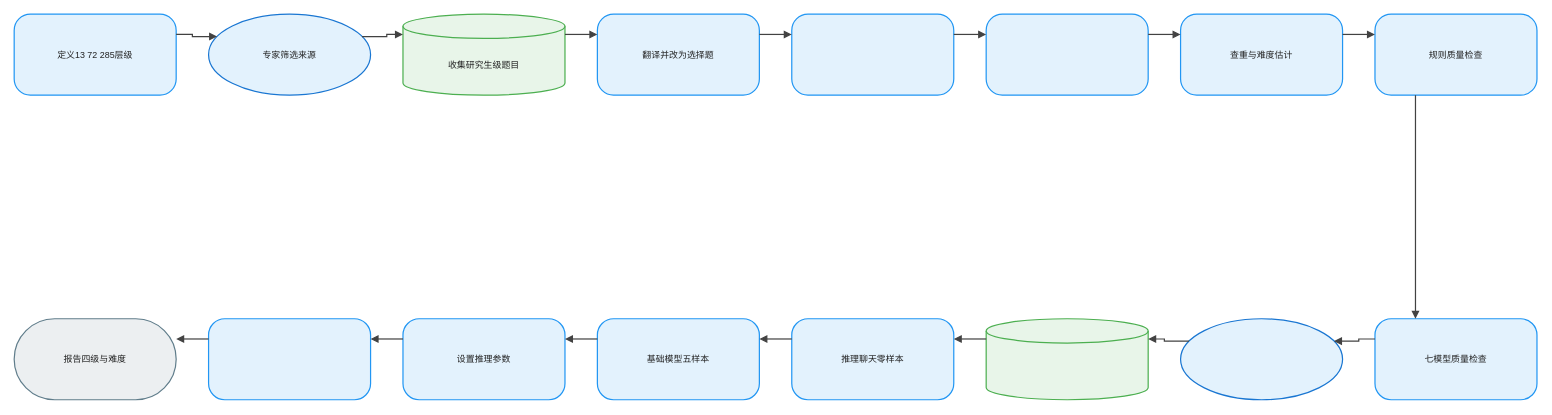
Image size: 1552x415. Some labels were removed from this diagram. The shapes that lost their labels are listed below. From the top down, each one's centre as x and y in pixels, then its label:
At point (872, 54): "统一格式补语境".
At point (1066, 54): "编写可信干扰项".
At point (289, 359): "答案字母准确率".
At point (1066, 359): "冻结26529题".
At point (1261, 359): "专家联网重解".
